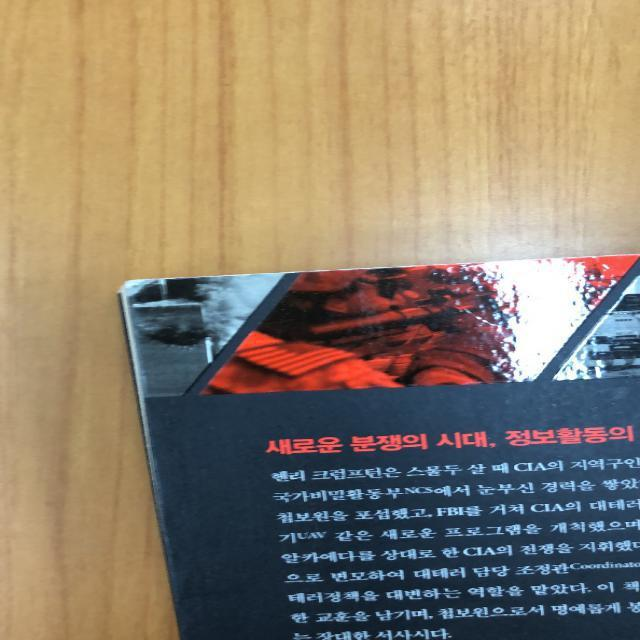Ripped: (109, 271, 163, 303)
Wornout: (163, 264, 419, 288), (568, 247, 639, 260)
